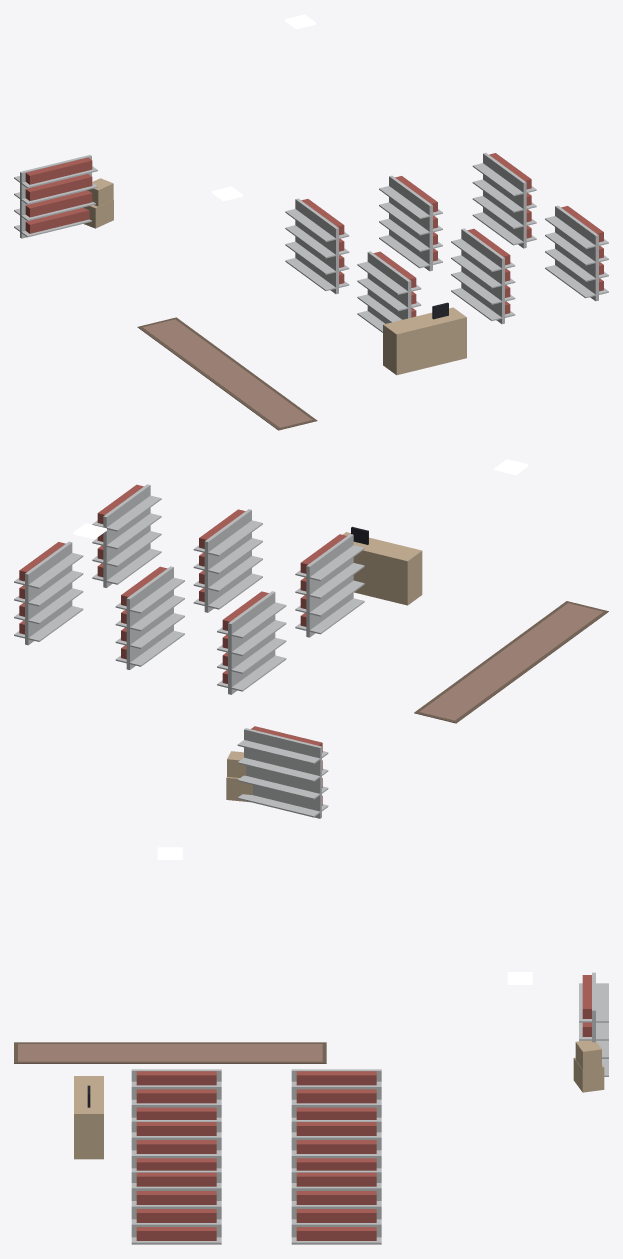
Rendered from fine-s0.glb.
3 views of the same model, one above another, from view 1: azimuth 30°, elevation 25°; view 2: azimuth 150°, elevation 25°; view 3: azimuth 270°, elevation 25° (orthographic). The views are drawn at different scales.
Visible parts, largest first — view 1: soft-s0, shelving.000, shop-counter.000, shelf.000, shelf.003, shelf.004, shelf.002, shelf.005, shelf.001, cardboard-box.000; view 2: soft-s0, shelving.000, shelf.000, shelf.001, shelf.004, shelf.003, shelf.002, shelf.005, shop-counter.000, cardboard-box.000; view 3: soft-s0, shelf.004, shelf.005, shelf.000, shelf.001, shelf.002, shelf.003, shop-counter.000, shelving.000, cardboard-box.000.
Part boxes in pixels (bbox=[...]): soft-s0: bbox=[137, 317, 317, 430]; shelving.000: bbox=[14, 155, 97, 238]; shop-counter.000: bbox=[383, 302, 466, 375]; shelf.000: bbox=[285, 198, 349, 294]; shelf.003: bbox=[451, 228, 515, 324]; shelf.004: bbox=[472, 152, 536, 248]; shelf.002: bbox=[379, 175, 442, 271]; shelf.005: bbox=[545, 205, 608, 301]; shelf.001: bbox=[357, 251, 421, 332]; cardboard-box.000: bbox=[83, 178, 113, 228]; soft-s0: bbox=[414, 601, 608, 723]; shelving.000: bbox=[237, 726, 328, 818]; shelf.000: bbox=[217, 591, 286, 694]; shelf.001: bbox=[295, 534, 364, 637]; shelf.004: bbox=[14, 541, 83, 645]; shelf.003: bbox=[193, 509, 262, 612]; shelf.002: bbox=[115, 566, 184, 669]; shelf.005: bbox=[92, 484, 161, 587]; shop-counter.000: bbox=[343, 526, 422, 605]; cardboard-box.000: bbox=[226, 751, 252, 802]; soft-s0: bbox=[14, 1042, 326, 1063]; shelf.004: bbox=[291, 1170, 381, 1244]; shelf.005: bbox=[131, 1170, 221, 1244]; shelf.000: bbox=[291, 1069, 381, 1119]; shelf.001: bbox=[131, 1069, 221, 1119]; shelf.002: bbox=[291, 1120, 381, 1170]; shelf.003: bbox=[131, 1120, 221, 1170]; shop-counter.000: bbox=[74, 1076, 103, 1159]; shelving.000: bbox=[579, 972, 608, 1076]; cardboard-box.000: bbox=[573, 1040, 604, 1092].
Size of the model in its own units: 9.82 by 4.44 by 11.9.
